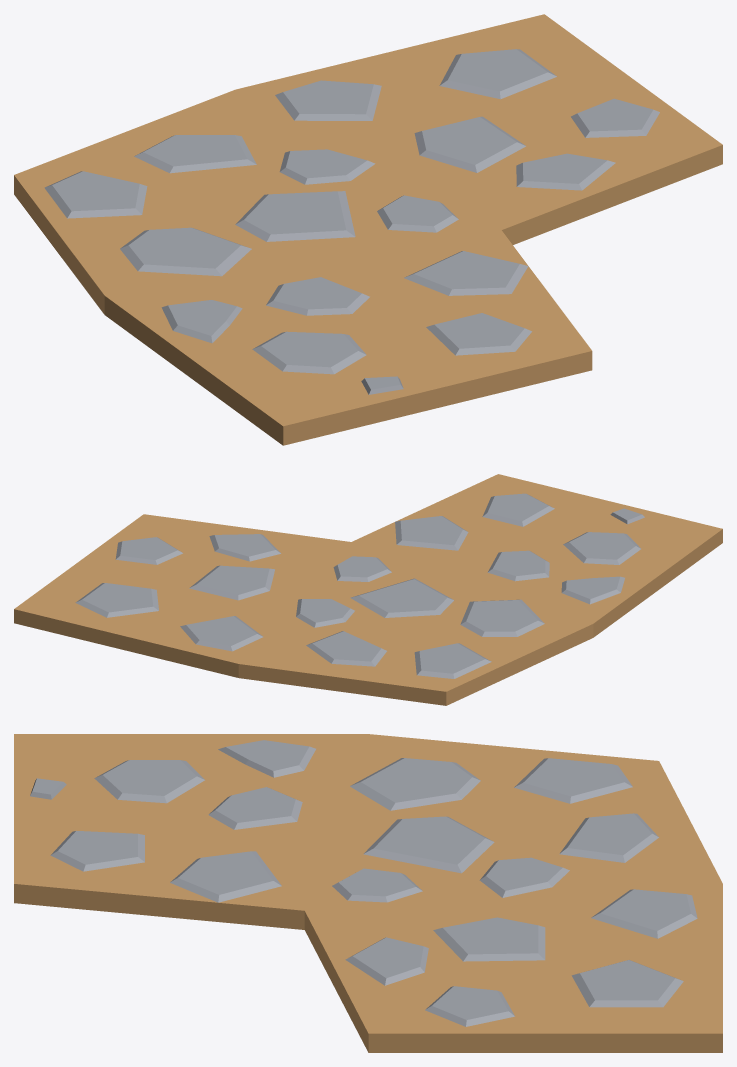
File: RoadLeft.fbx
3 views of the same model, one above another, from view 1: azimuth 30°, elevation 25°; view 2: azimuth 150°, elevation 25°; view 3: azimuth 270°, elevation 25° (orthographic). The views are drawn at different scales.
Visible parts, largest first — view 1: Road-Left; view 2: Road-Left; view 3: Road-Left.
Boxes of the visible parts, box(x1,y1,x2,y2) form: Road-Left: box(14, 14, 722, 445); Road-Left: box(14, 474, 722, 705); Road-Left: box(14, 734, 722, 1052).
Bounding box in the file's own units: 827 × 29.83 × 827.
